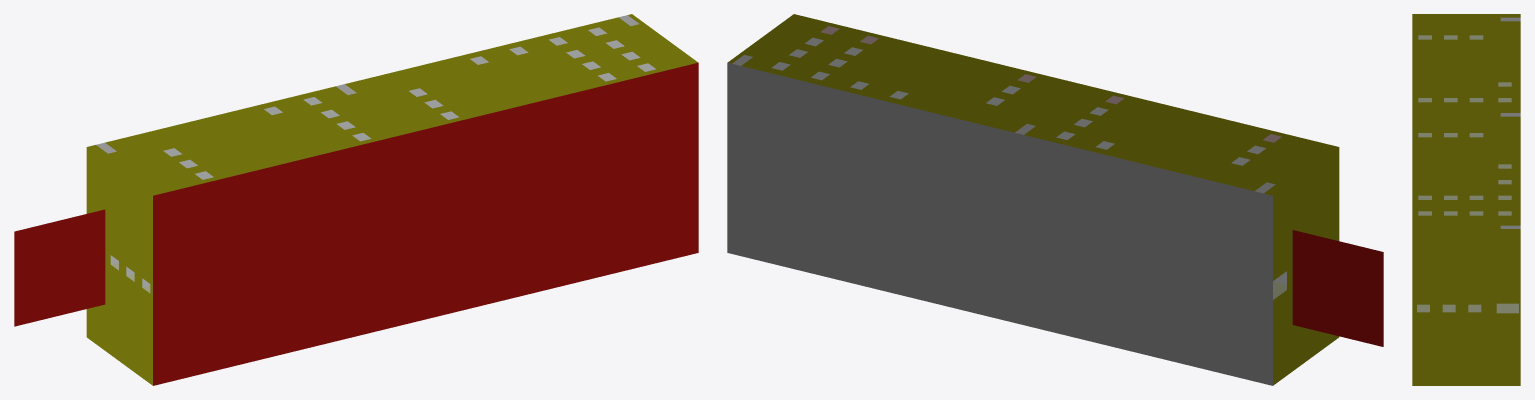
File: idf.obj
The picture shows the model from 3 angles, left to right: view 1: azimuth 30°, elevation 25°; view 2: azimuth 150°, elevation 25°; view 3: azimuth 270°, elevation 25°; orthographic projection. The views are drawn at different scales.
Bounding box in the file's own units: 64.06 × 18.29 × 11.58.
